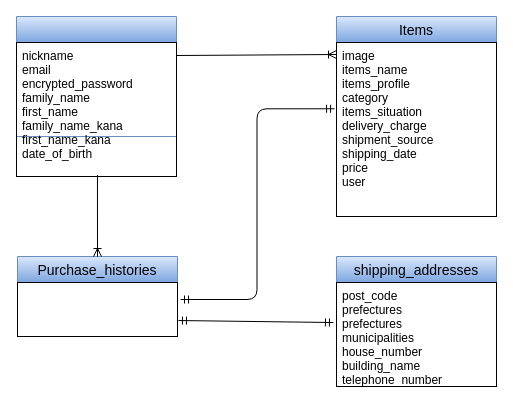
Image size: 513x403. Some labels were removed from this diagram. Each missing label, with the centre of its shape:
"user item" goes at point (97, 309).
"Users" goes at point (96, 76).
